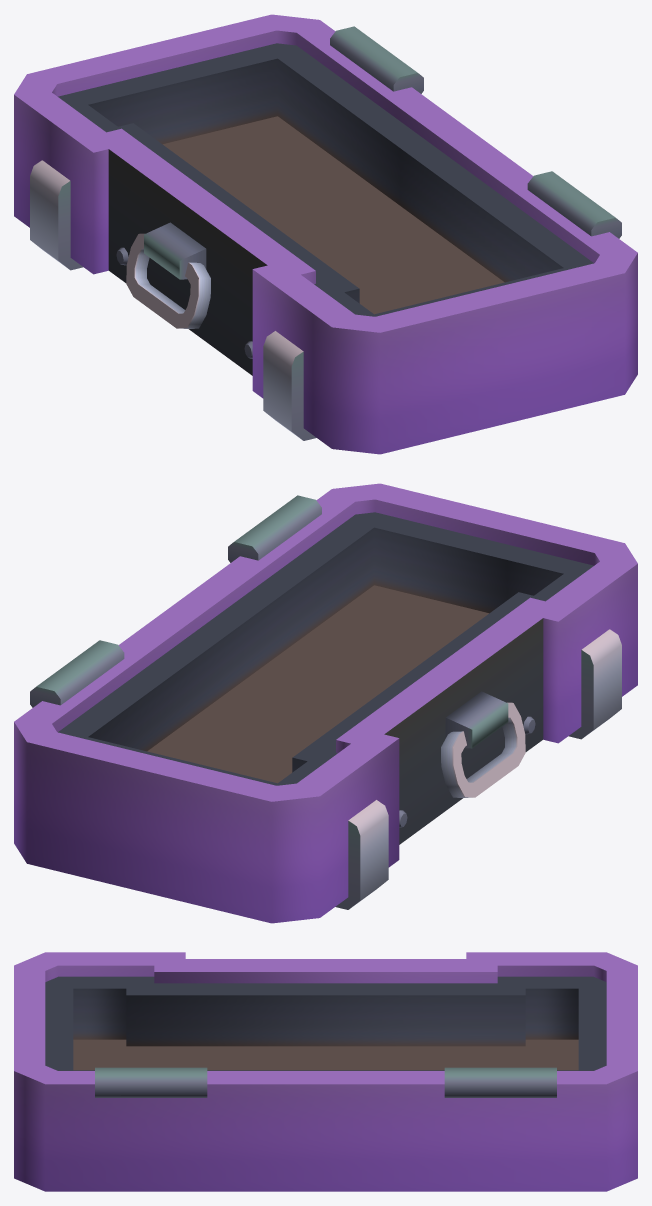
The picture shows the model from 3 angles, top to bottom: view 1: azimuth 30°, elevation 25°; view 2: azimuth 150°, elevation 25°; view 3: azimuth 270°, elevation 25°; orthographic projection. The views are drawn at different scales.
Visible parts, largest first — view 1: crate-medium; view 2: crate-medium; view 3: crate-medium.
Part boxes in pixels (x1=…): crate-medium: x1=14, y1=14, x2=637, y2=454; crate-medium: x1=14, y1=483, x2=637, y2=923; crate-medium: x1=14, y1=952, x2=637, y2=1191.
Bounding box in the file's own units: 0.4946 × 0.207 × 0.9.
Materials: 1 (1 with a texture image).
